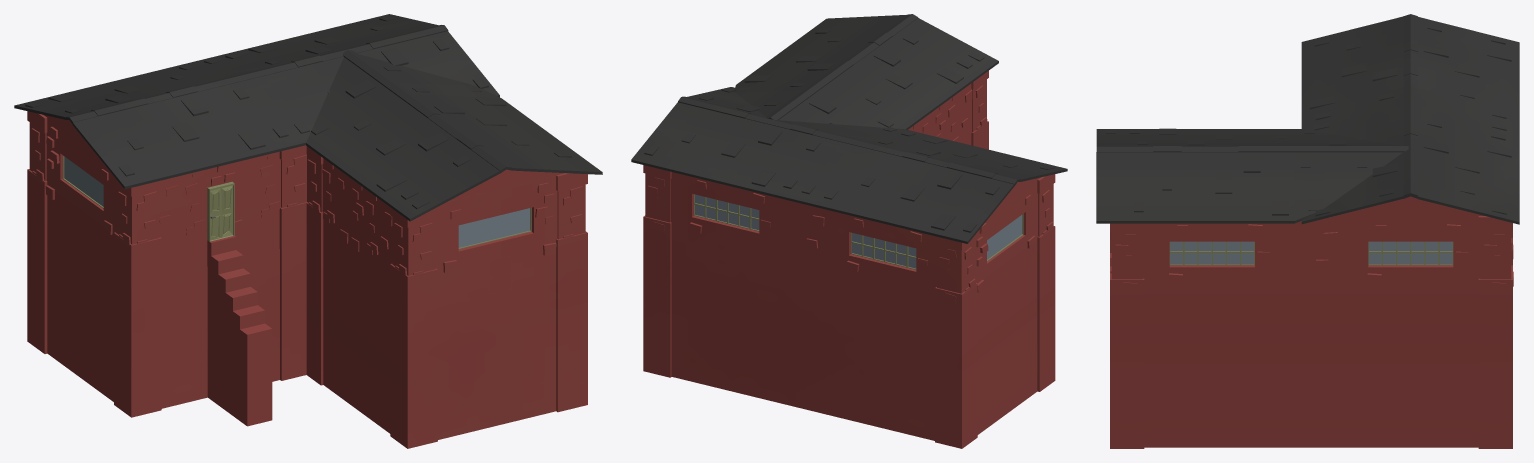
3 renders of one model, left to right at view 1: azimuth 30°, elevation 25°; view 2: azimuth 150°, elevation 25°; view 3: azimuth 270°, elevation 25°, orthographic. The views are drawn at different scales.
Visible parts, largest first — view 1: 4.001; view 2: 4.001; view 3: 4.001.
Boxes of the visible parts, left/top/right/bottom form: 4.001: left=14, top=14, right=602, bottom=448; 4.001: left=631, top=14, right=1067, bottom=448; 4.001: left=1096, top=14, right=1519, bottom=448.
Bounding box in the file's own units: 30.04 × 20.27 × 29.86.
3 materials, 1 textured.
